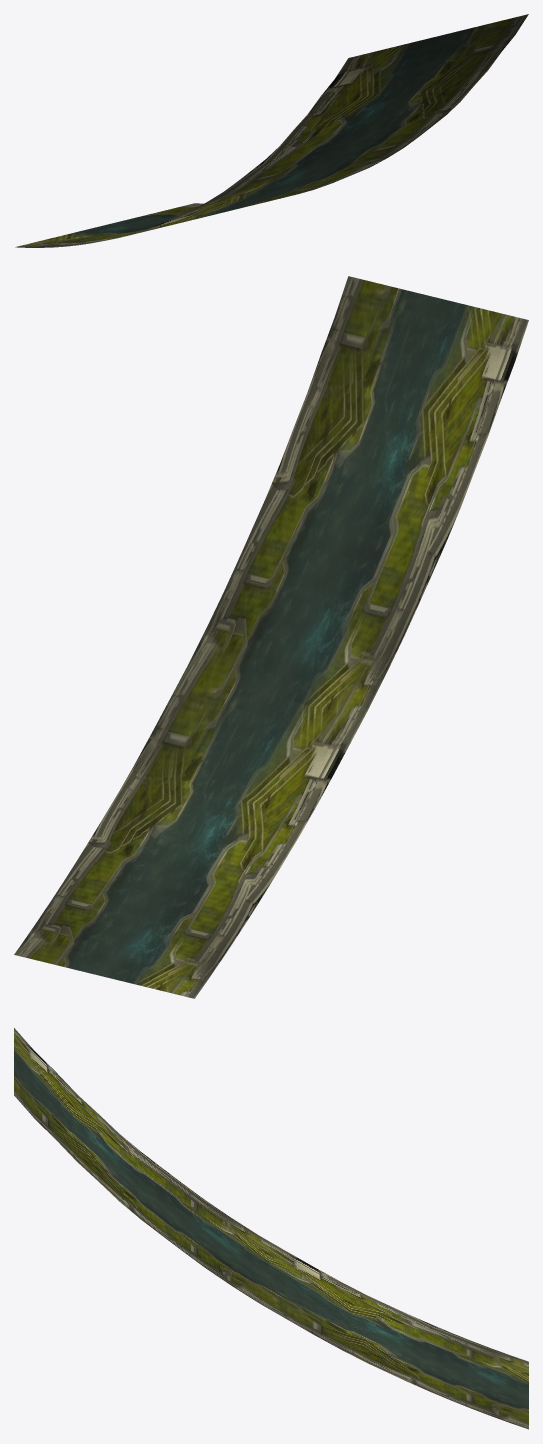
The model's file is PresidiumRing_capbottom.FBX.
3 views of the same model, one above another, from view 1: azimuth 30°, elevation 25°; view 2: azimuth 150°, elevation 25°; view 3: azimuth 270°, elevation 25° (orthographic). The views are drawn at different scales.
Parts seen in each view (by area): view 1: PresidiumRing_capbottom; view 2: PresidiumRing_capbottom; view 3: PresidiumRing_capbottom.
Part boxes in pixels (bbox=[...]): PresidiumRing_capbottom: bbox=[15, 14, 528, 247]; PresidiumRing_capbottom: bbox=[14, 276, 528, 998]; PresidiumRing_capbottom: bbox=[14, 1028, 528, 1429].
Size of the model in its own units: 422 by 970 by 1354.
